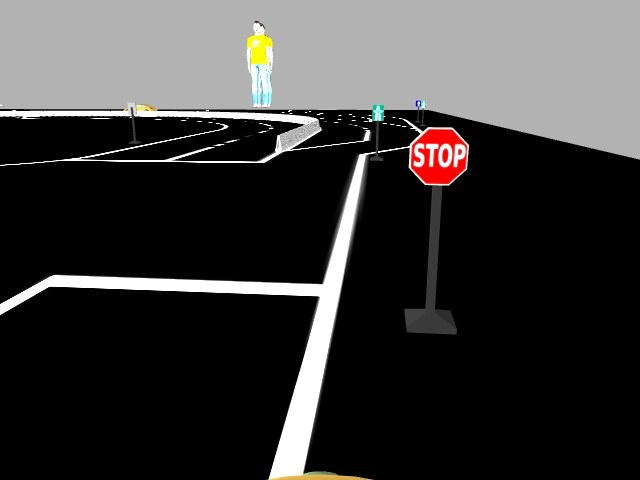Stop: (406, 122, 467, 184)
